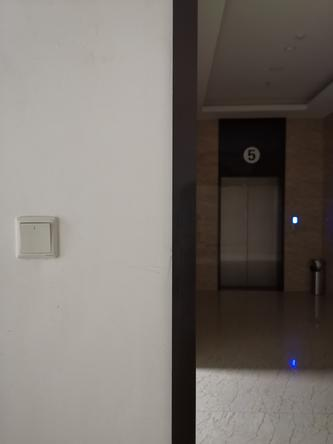switch: (20, 218, 58, 258)
